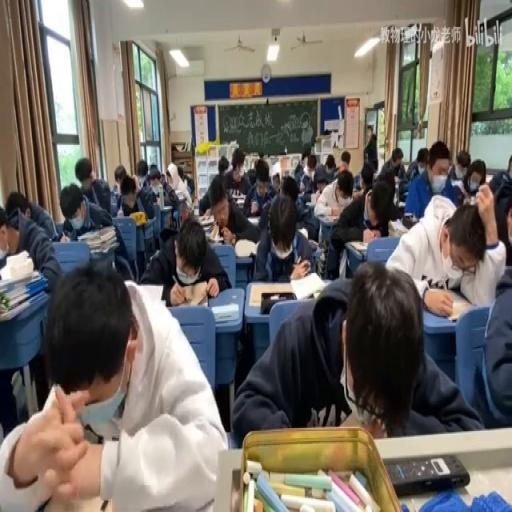calculator: (247, 274, 324, 306), (430, 286, 476, 321), (0, 287, 46, 321), (132, 283, 166, 310), (210, 300, 238, 322), (174, 294, 208, 310), (234, 236, 256, 258), (198, 212, 216, 235), (388, 218, 406, 236), (346, 239, 369, 253), (230, 194, 245, 206), (320, 213, 339, 222), (246, 215, 260, 226), (206, 144, 217, 158), (306, 238, 318, 250), (298, 226, 308, 239), (150, 182, 159, 195), (305, 196, 315, 206), (484, 174, 494, 184), (404, 211, 414, 219), (160, 204, 172, 210), (398, 201, 406, 209)
paper: (5, 260, 224, 509), (232, 263, 478, 442), (384, 184, 504, 308), (142, 209, 228, 303), (63, 179, 141, 279), (473, 267, 512, 429), (252, 186, 318, 280), (2, 193, 62, 296), (331, 174, 384, 258), (487, 161, 512, 257), (142, 162, 180, 218), (244, 158, 274, 217), (444, 146, 470, 204), (398, 148, 425, 203), (222, 148, 250, 195), (307, 155, 332, 195), (363, 125, 377, 165), (465, 164, 483, 194), (292, 151, 306, 186), (281, 175, 299, 202), (136, 158, 150, 190), (360, 164, 374, 194), (114, 164, 127, 196), (270, 159, 282, 191), (337, 176, 352, 199), (338, 151, 352, 175), (379, 161, 395, 182), (184, 175, 194, 200), (110, 189, 119, 212), (218, 154, 228, 174), (417, 155, 427, 172), (392, 156, 402, 170), (176, 165, 183, 181), (302, 150, 310, 164), (166, 175, 172, 186)
person: (386, 452, 470, 494)
